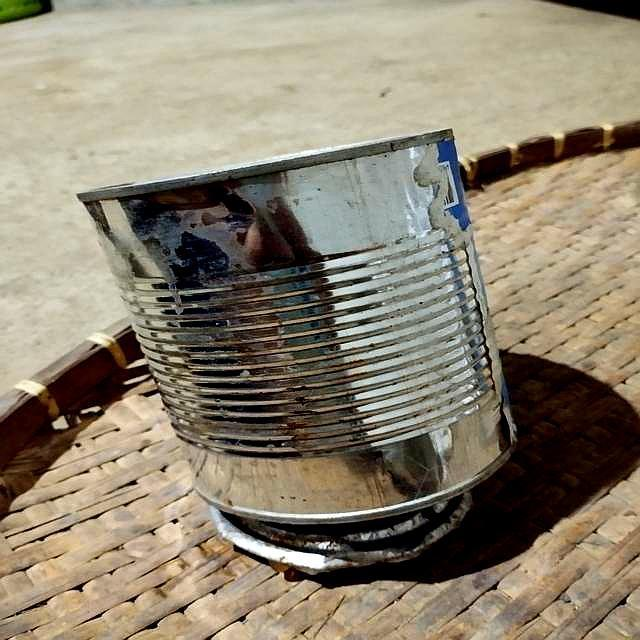Non-biodegradable: (75, 126, 521, 577)
